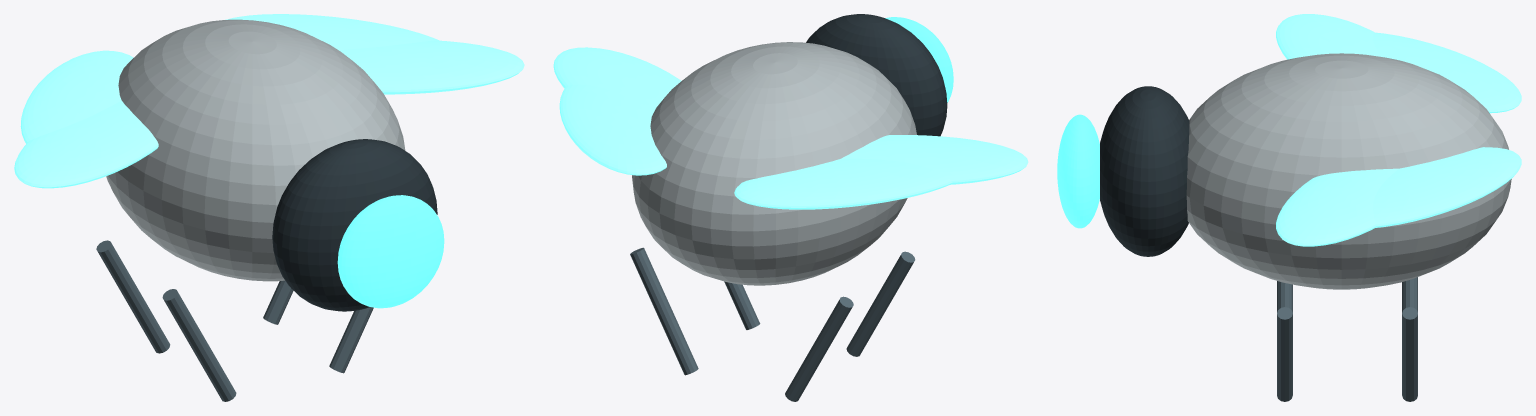
Rendered from MUSCA_FormProxy_v0.1.fbx.
The picture shows the model from 3 angles, left to right: view 1: azimuth 30°, elevation 25°; view 2: azimuth 150°, elevation 25°; view 3: azimuth 270°, elevation 25°; orthographic projection. The views are drawn at different scales.
Visible parts, largest first — view 1: MuscaBody, MuscaCore, MuscaEye, MuscaWing_-0.28_0.02, MuscaWing_0.28_0.02, MuscaWing_-0.24_0.14, MuscaWing_0.24_0.14, MuscaLeg_-0.16_-0.1, MuscaLeg_-0.16_0.12, MuscaLeg_0.16_-0.1, MuscaLeg_0.16_0.12; view 2: MuscaBody, MuscaWing_-0.24_0.14, MuscaCore, MuscaWing_0.24_0.14, MuscaWing_-0.28_0.02, MuscaWing_0.28_0.02, MuscaLeg_0.16_0.12, MuscaLeg_-0.16_0.12, MuscaLeg_-0.16_-0.1, MuscaEye, MuscaLeg_0.16_-0.1; view 3: MuscaBody, MuscaCore, MuscaWing_0.24_0.14, MuscaWing_0.28_0.02, MuscaWing_-0.24_0.14, MuscaEye, MuscaWing_-0.28_0.02, MuscaLeg_0.16_0.12, MuscaLeg_0.16_-0.1, MuscaLeg_-0.16_0.12, MuscaLeg_-0.16_-0.1.
Part boxes in pixels (left/top/right/bottom): MuscaBody: left=106, top=19, right=405, bottom=281; MuscaCore: left=272, top=139, right=437, bottom=311; MuscaEye: left=337, top=195, right=444, bottom=308; MuscaWing_-0.28_0.02: left=14, top=100, right=158, bottom=188; MuscaWing_0.28_0.02: left=339, top=40, right=524, bottom=94; MuscaWing_-0.24_0.14: left=20, top=50, right=133, bottom=143; MuscaWing_0.24_0.14: left=225, top=14, right=439, bottom=50; MuscaLeg_-0.16_-0.1: left=162, top=289, right=236, bottom=401; MuscaLeg_-0.16_0.12: left=96, top=240, right=170, bottom=353; MuscaLeg_0.16_-0.1: left=329, top=307, right=373, bottom=373; MuscaLeg_0.16_0.12: left=263, top=280, right=293, bottom=324; MuscaBody: left=632, top=42, right=916, bottom=285; MuscaWing_-0.24_0.14: left=734, top=158, right=951, bottom=209; MuscaCore: left=806, top=14, right=947, bottom=136; MuscaWing_0.24_0.14: left=559, top=84, right=666, bottom=175; MuscaWing_-0.28_0.02: left=841, top=135, right=1028, bottom=184; MuscaWing_0.28_0.02: left=553, top=47, right=681, bottom=112; MuscaLeg_0.16_0.12: left=630, top=247, right=698, bottom=375; MuscaLeg_-0.16_0.12: left=785, top=296, right=853, bottom=401; MuscaLeg_-0.16_-0.1: left=846, top=251, right=915, bottom=356; MuscaEye: left=885, top=17, right=953, bottom=102; MuscaLeg_0.16_-0.1: left=724, top=281, right=760, bottom=329; MuscaBody: left=1186, top=53, right=1511, bottom=289; MuscaCore: left=1100, top=86, right=1189, bottom=256; MuscaWing_0.24_0.14: left=1373, top=147, right=1521, bottom=227; MuscaWing_0.28_0.02: left=1276, top=168, right=1398, bottom=246; MuscaWing_-0.24_0.14: left=1373, top=32, right=1521, bottom=113; MuscaEye: left=1057, top=114, right=1099, bottom=228; MuscaWing_-0.28_0.02: left=1276, top=14, right=1381, bottom=59; MuscaLeg_0.16_0.12: left=1402, top=307, right=1417, bottom=401; MuscaLeg_0.16_-0.1: left=1277, top=307, right=1292, bottom=401; MuscaLeg_-0.16_0.12: left=1402, top=277, right=1417, bottom=312; MuscaLeg_-0.16_-0.1: left=1277, top=281, right=1292, bottom=312.
Bounding box in the file's own units: 95.85 × 59.25 × 81.62.
